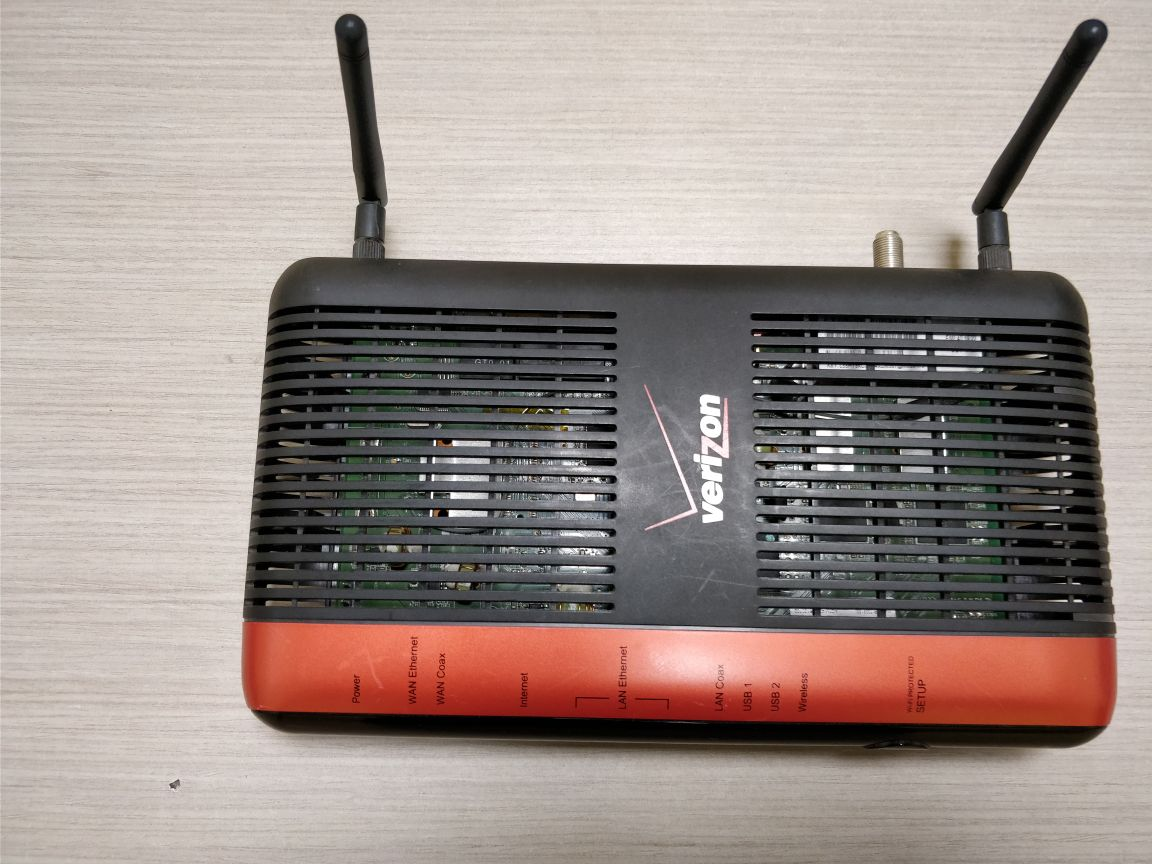Verizon Router: (177, 1, 1124, 757)
